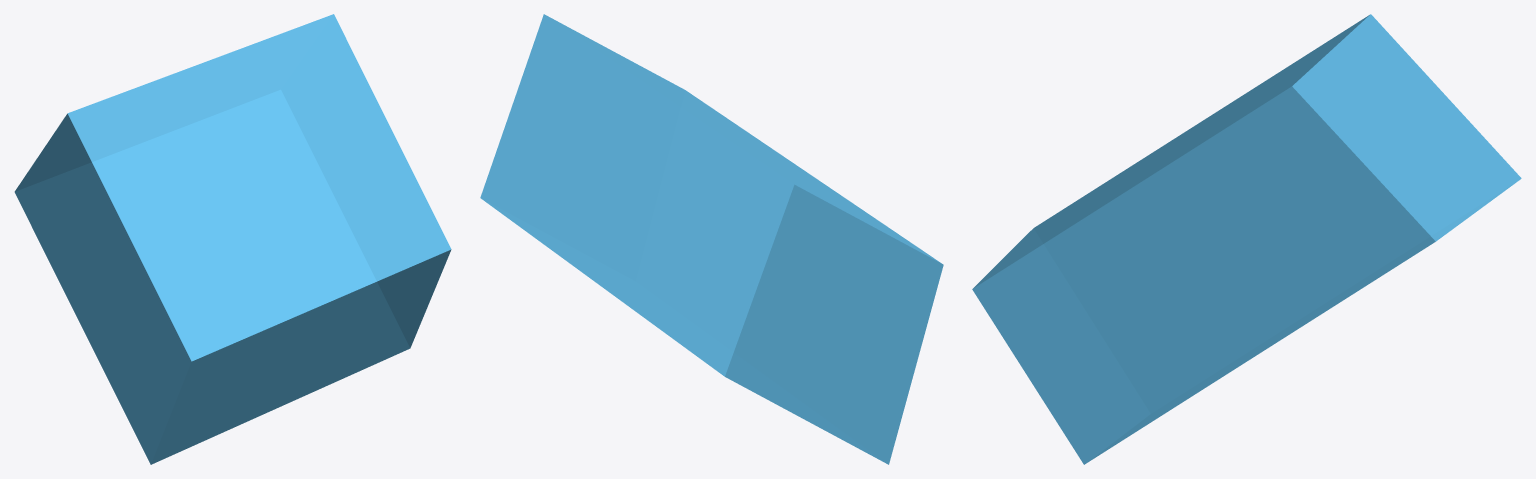
The model's file is Event_420604493_HErechit_26.fbx.
3 views of the same model, side by side, from view 1: azimuth 30°, elevation 25°; view 2: azimuth 150°, elevation 25°; view 3: azimuth 270°, elevation 25° (orthographic). The views are drawn at different scales.
Visible parts, largest first — view 1: Model; view 2: Model; view 3: Model.
Part boxes in pixels (x1,y1,x2,y2): Model: (14, 14, 451, 464); Model: (480, 14, 943, 464); Model: (972, 14, 1521, 464).
Size of the model in its own units: 0.6069 by 0.8688 by 0.8951.
